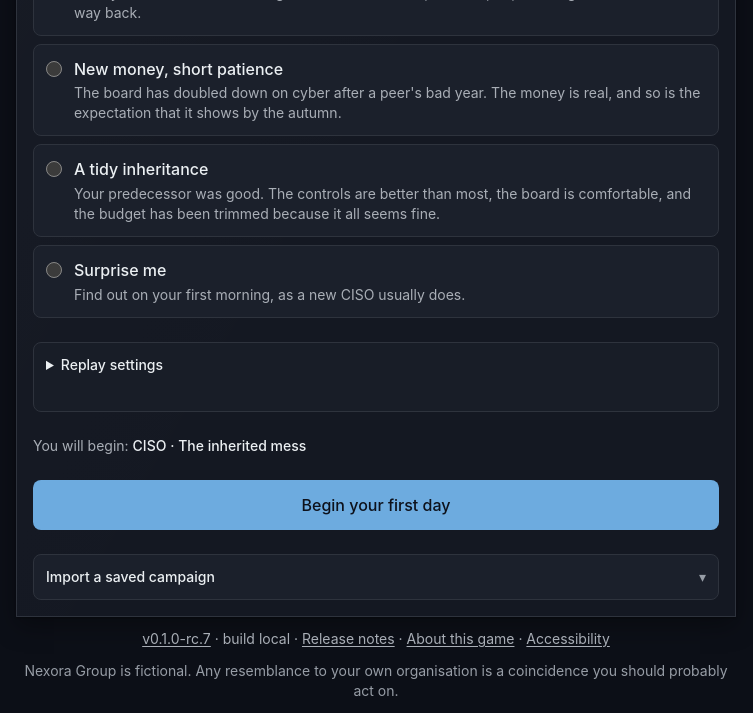
Test: opening a campaign from the start screen › says it is opening, and cannot be pressed twice
(page scrolled)
Click the button "Begin your first day".
click(376, 505)  # box [33, 480, 719, 530]
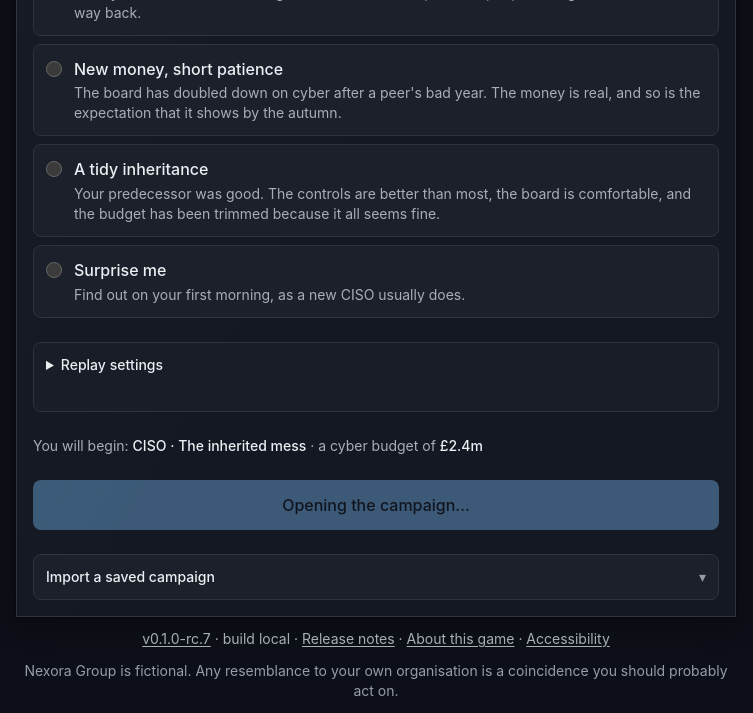
expect the button "Opening the campaign…" is disabled: met, box [33, 480, 719, 530]
